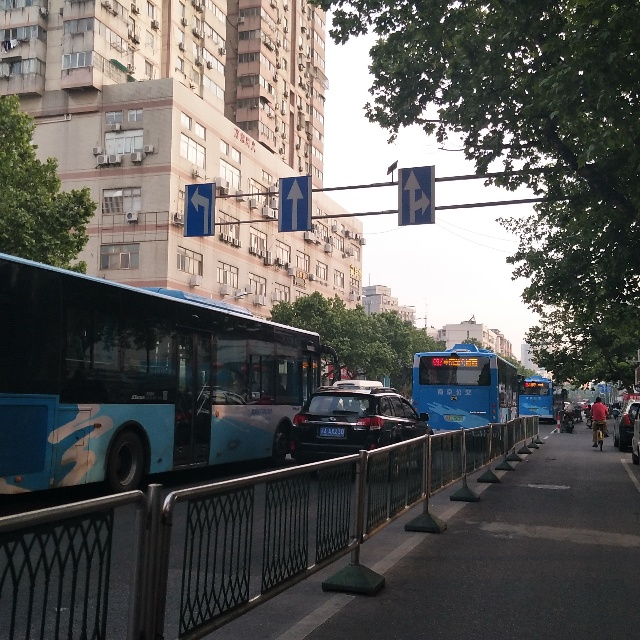left: (187, 181, 215, 238)
straight: (277, 179, 311, 230)
